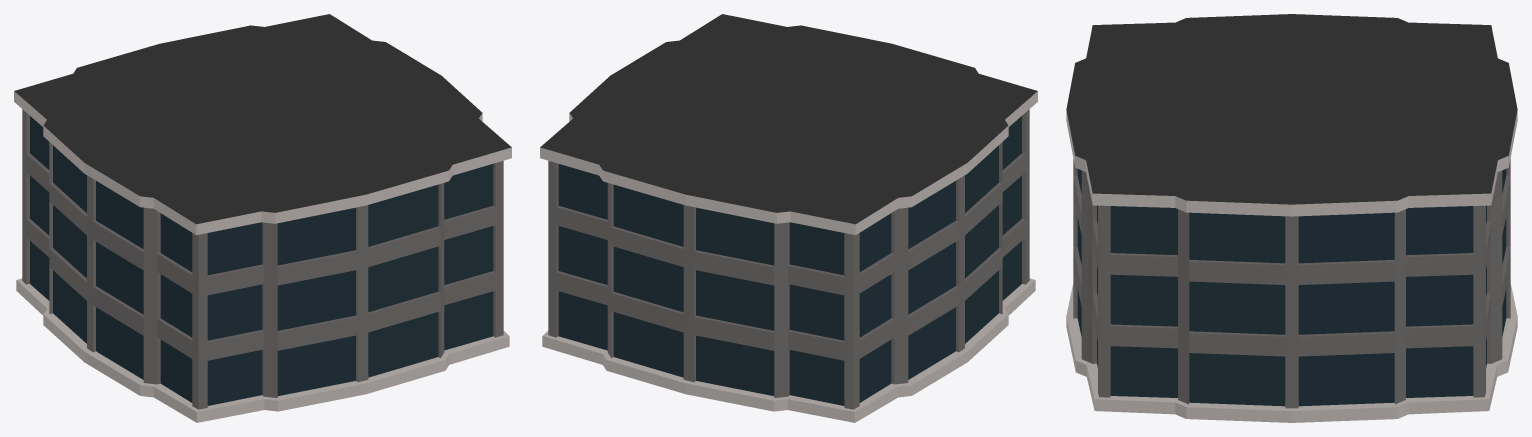
File: skyscraper2-part-middle.glb
The picture shows the model from 3 angles, left to right: view 1: azimuth 30°, elevation 25°; view 2: azimuth 150°, elevation 25°; view 3: azimuth 270°, elevation 25°; orthographic projection. The views are drawn at different scales.
Parts seen in each view (by area): view 1: skyscraper2-part-middle; view 2: skyscraper2-part-middle; view 3: skyscraper2-part-middle.
Boxes of the visible parts, box(x1,y1,x2,y2) form: skyscraper2-part-middle: box(14, 14, 511, 422); skyscraper2-part-middle: box(540, 14, 1037, 422); skyscraper2-part-middle: box(1066, 14, 1517, 422).
Size of the model in its own units: 20.6 by 11 by 20.6.
1 material, 1 textured.
